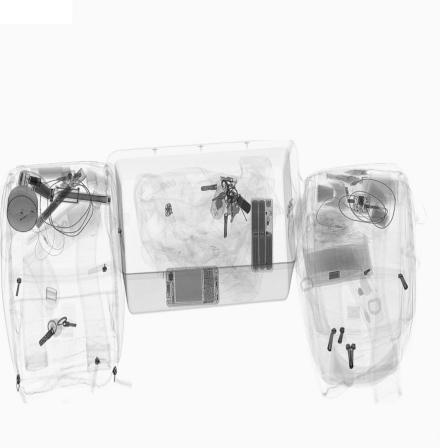Powerbank: (250, 197, 274, 274)
